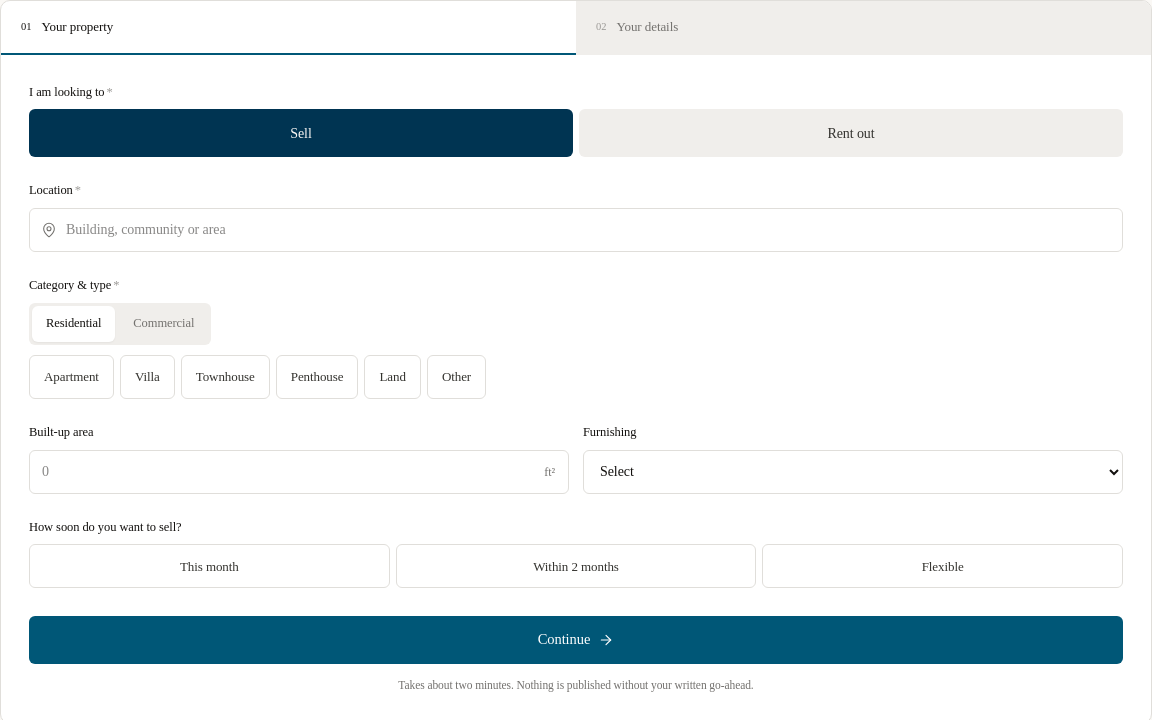
Test: ListPropertyForm › holds the owner on step 1 until the required answers are in
Click the button "Continue".
click(576, 640)  # box top-left (29, 616), bottom-right (1123, 664)
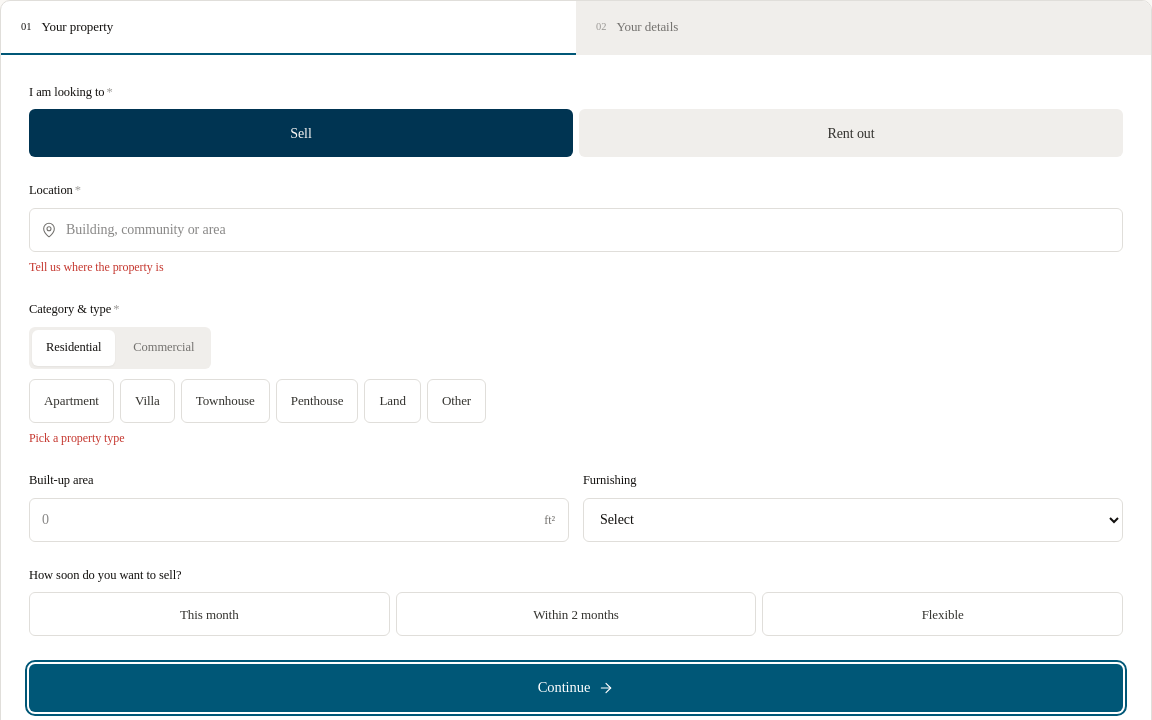
Check: the text "Tell us where the property is" is shown, box top-left (29, 260), bottom-right (164, 274)
